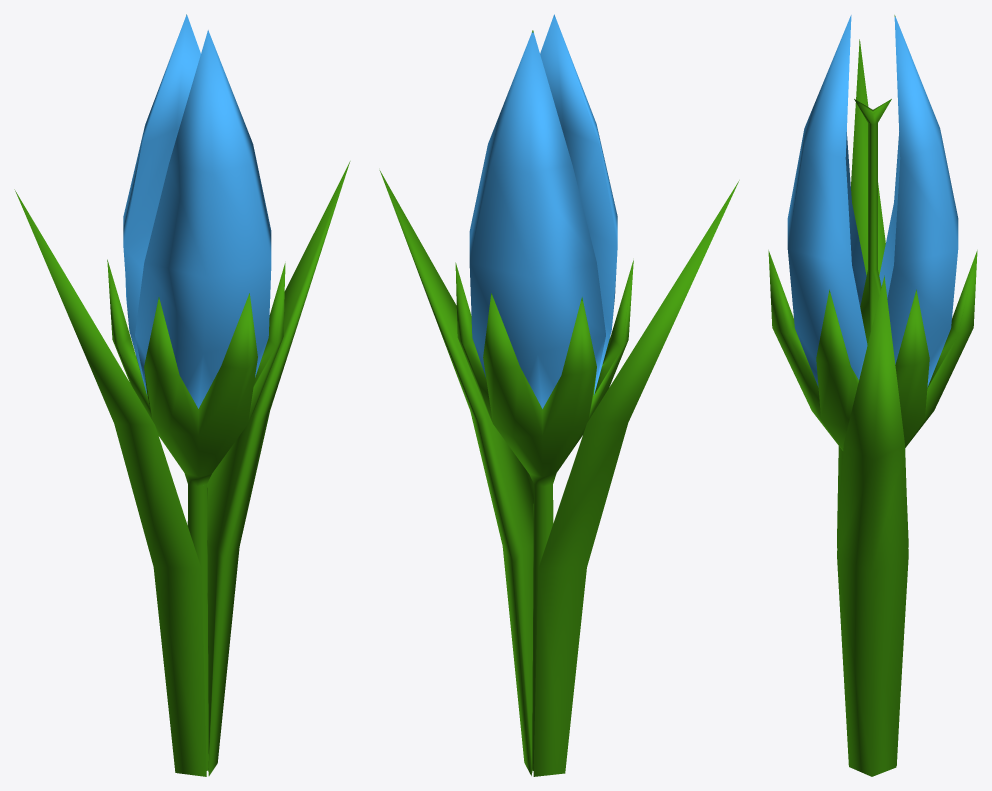
Rendered from Crocus1_Blue.fbx.
3 renders of one model, left to right at view 1: azimuth 30°, elevation 25°; view 2: azimuth 150°, elevation 25°; view 3: azimuth 270°, elevation 25°, orthographic.
Visible parts, largest first — view 1: crocus; view 2: crocus; view 3: crocus.
Part boxes in pixels (x1=…): crocus: x1=14, y1=14, x2=350, y2=776; crocus: x1=379, y1=14, x2=739, y2=776; crocus: x1=768, y1=15, x2=977, y2=776.
Bounding box in the file's own units: 57.1 × 117 × 29.38.
